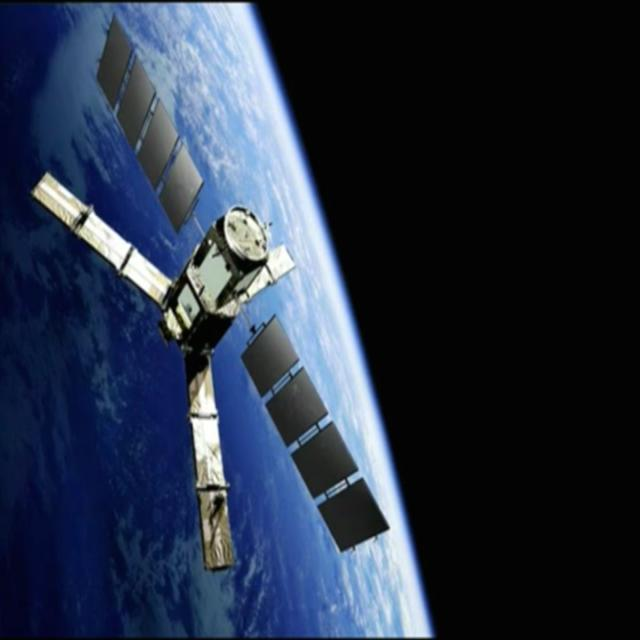medium_debris: (19, 15, 399, 582)
